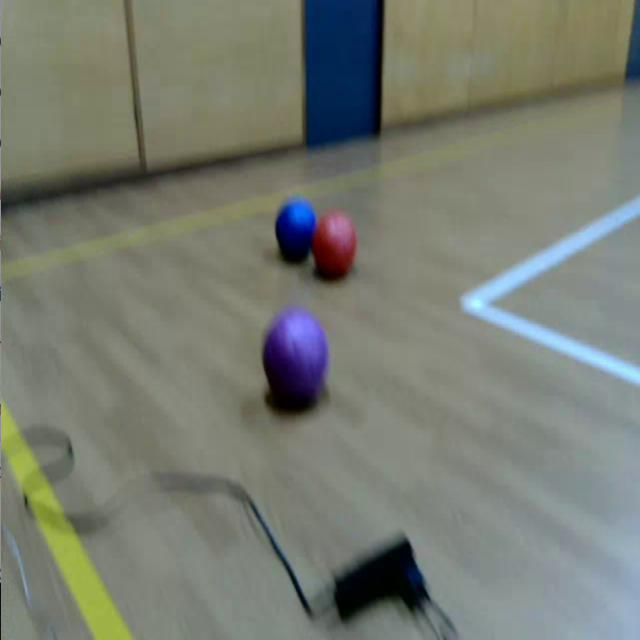blue_ball: (276, 197, 316, 258)
purple_ball: (260, 308, 329, 405)
red_ball: (312, 208, 357, 273)
